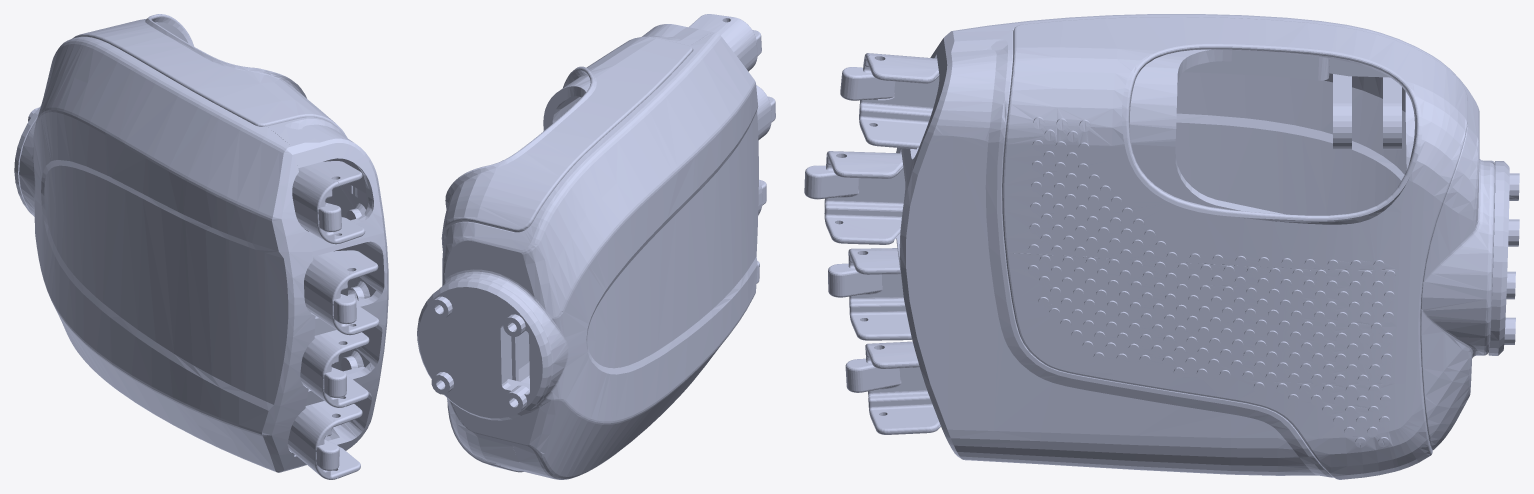
Rendered from rh_hand_base_link_vis.obj.
3 views of the same model, side by side, from view 1: azimuth 30°, elevation 25°; view 2: azimuth 150°, elevation 25°; view 3: azimuth 270°, elevation 25° (orthographic). The views are drawn at different scales.
Visible parts, largest first — view 1: rh_hand_base_link; view 2: rh_hand_base_link; view 3: rh_hand_base_link.
Part boxes in pixels (box(x1,y1,x2,y2)): rh_hand_base_link: box(14, 14, 388, 479); rh_hand_base_link: box(417, 14, 775, 479); rh_hand_base_link: box(804, 14, 1519, 479).
Size of the model in its own units: 0.0432 by 0.0859 by 0.1319.
1 material, 1 textured.
